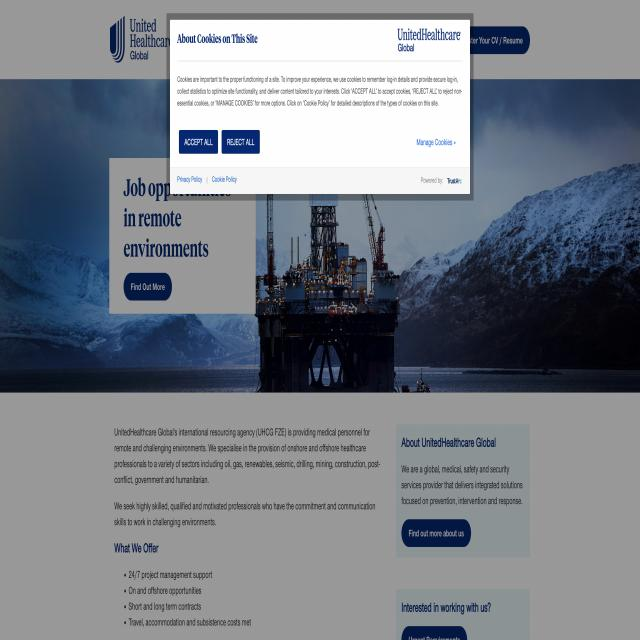Logo: (106, 2, 196, 71)
